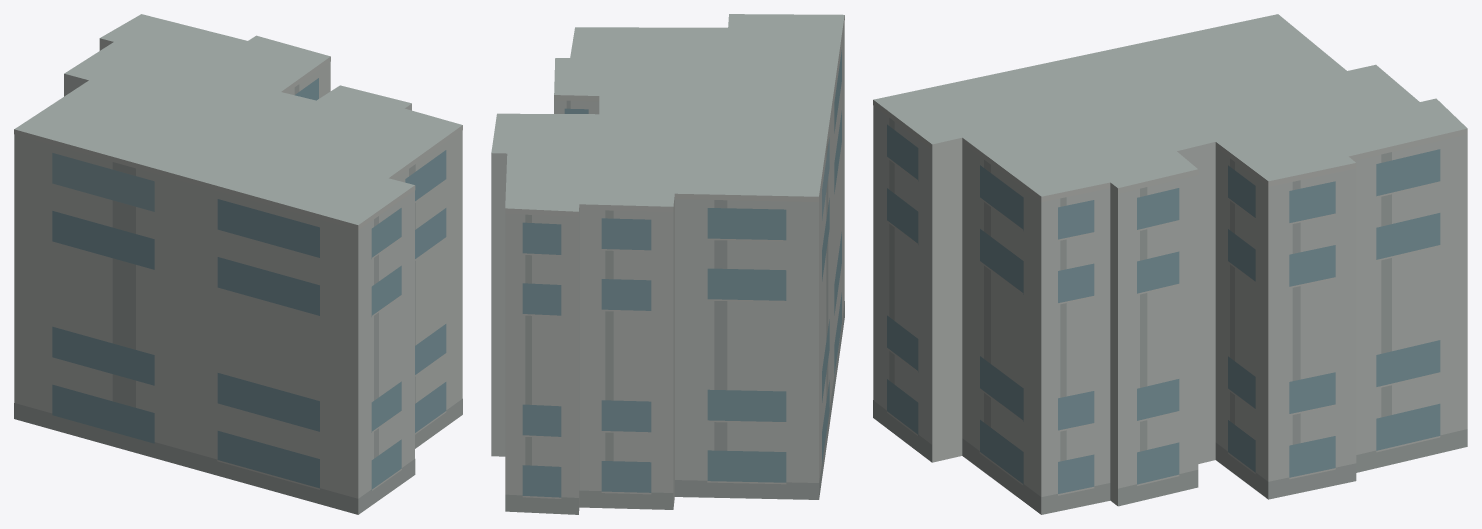
The model's file is survey-upis-32814780.glb.
3 views of the same model, side by side, from view 1: azimuth 30°, elevation 25°; view 2: azimuth 150°, elevation 25°; view 3: azimuth 270°, elevation 25° (orthographic). The views are drawn at different scales.
Visible parts, largest first — view 1: survey-upis-32814780.tmp; view 2: survey-upis-32814780.tmp; view 3: survey-upis-32814780.tmp.
Boxes of the visible parts, bbox=[...] form: survey-upis-32814780.tmp: bbox=[14, 14, 462, 514]; survey-upis-32814780.tmp: bbox=[491, 14, 844, 514]; survey-upis-32814780.tmp: bbox=[873, 14, 1467, 514].
Size of the model in its own units: 16.88 by 13.7 by 23.21.
